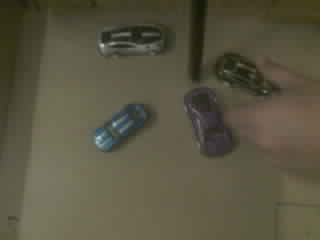Car: (184, 88, 232, 155), (215, 53, 278, 95), (96, 104, 147, 151), (98, 25, 165, 55)
